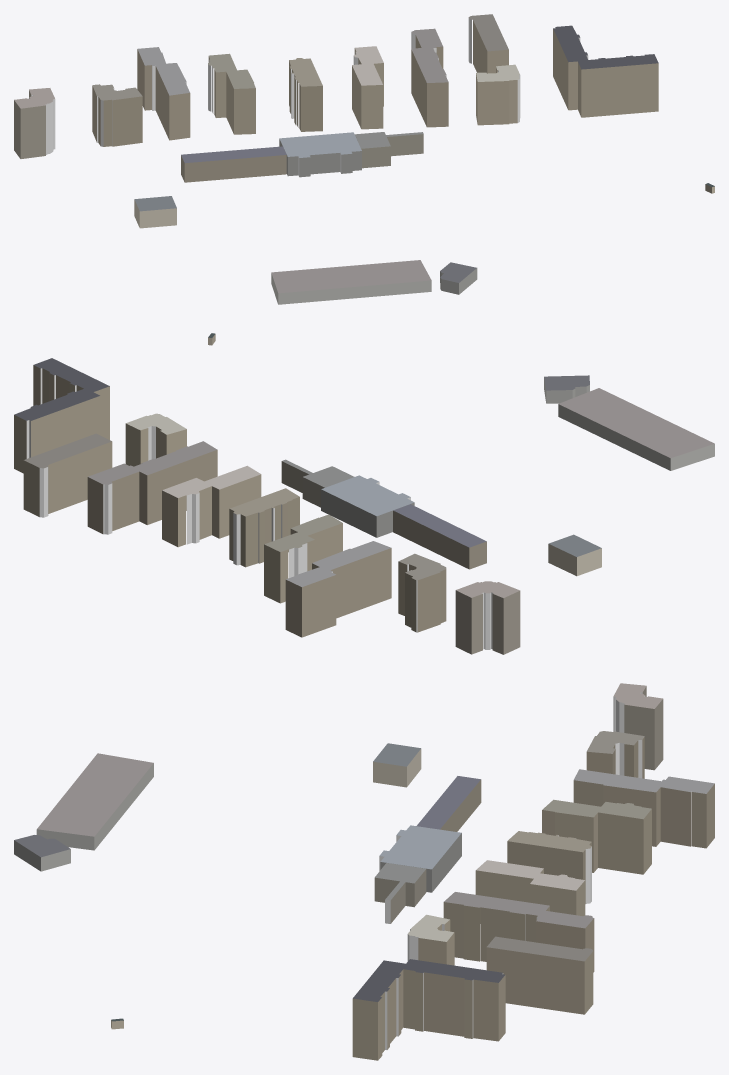
The picture shows the model from 3 angles, top to bottom: view 1: azimuth 30°, elevation 25°; view 2: azimuth 150°, elevation 25°; view 3: azimuth 270°, elevation 25°; orthographic projection. The views are drawn at different scales.
Visible parts, largest first — view 1: tuile; view 2: tuile; view 3: tuile.
Boxes of the visible parts, bbox=[...] form: tuile: bbox=[14, 14, 714, 304]; tuile: bbox=[14, 333, 714, 654]; tuile: bbox=[14, 683, 714, 1060].
Bounding box in the file's own units: 282 × 27.9 × 265.
